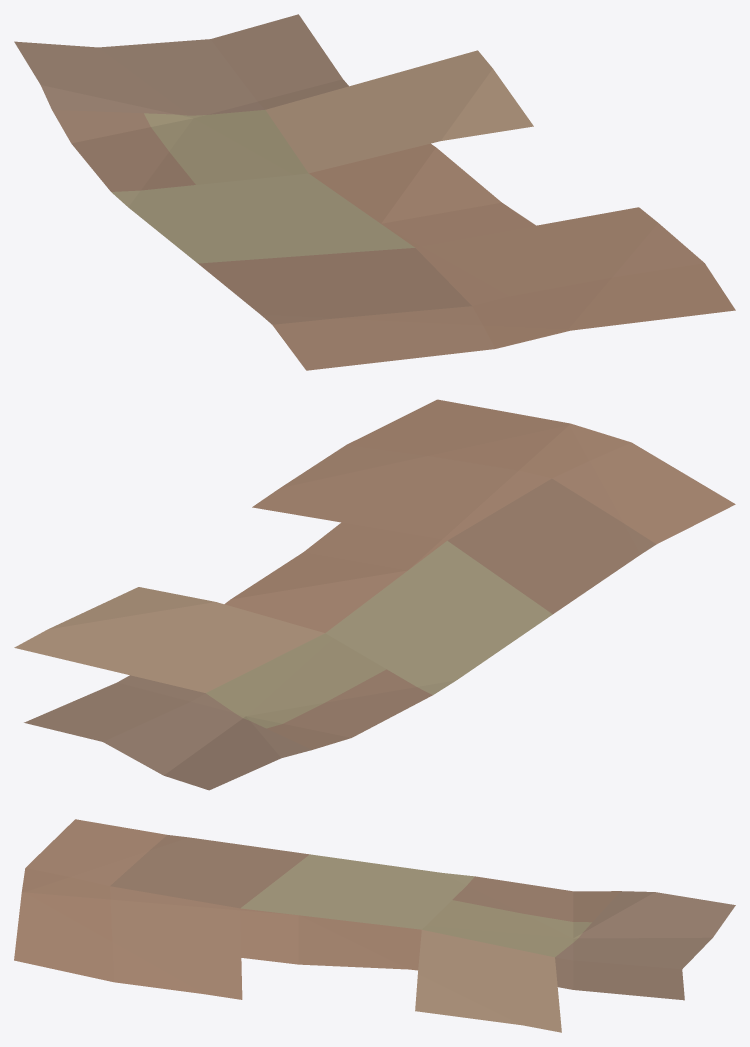
The model's file is farm_-59_-50_soil.glb.
3 renders of one model, top to bottom at view 1: azimuth 30°, elevation 25°; view 2: azimuth 150°, elevation 25°; view 3: azimuth 270°, elevation 25°, orthographic. The views are drawn at different scales.
Parts seen in each view (by area): view 1: geometry_0; view 2: geometry_0; view 3: geometry_0.
Part boxes in pixels (x1,y1,x2,y2): geometry_0: (14,14,735,370); geometry_0: (14,399,735,790); geometry_0: (14,819,735,1032).
Size of the model in its own units: 124 by 14.9 by 211.
